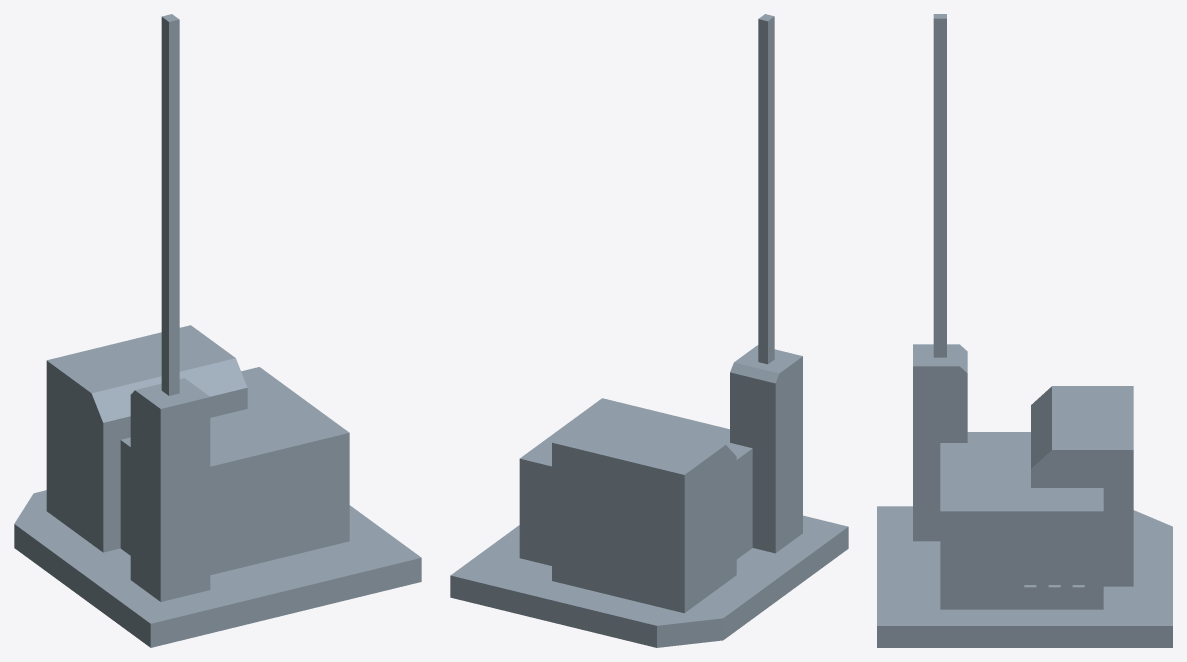
File: station.glb
3 renders of one model, left to right at view 1: azimuth 30°, elevation 25°; view 2: azimuth 150°, elevation 25°; view 3: azimuth 270°, elevation 25°, orthographic. The views are drawn at different scales.
Parts seen in each view (by area): view 1: station; view 2: station; view 3: station.
Boxes of the visible parts, left/top/right/bottom form: station: left=14, top=14, right=421, bottom=647; station: left=450, top=14, right=848, bottom=647; station: left=877, top=14, right=1172, bottom=647.
Size of the model in its own units: 4.7 by 9.8 by 4.9.
